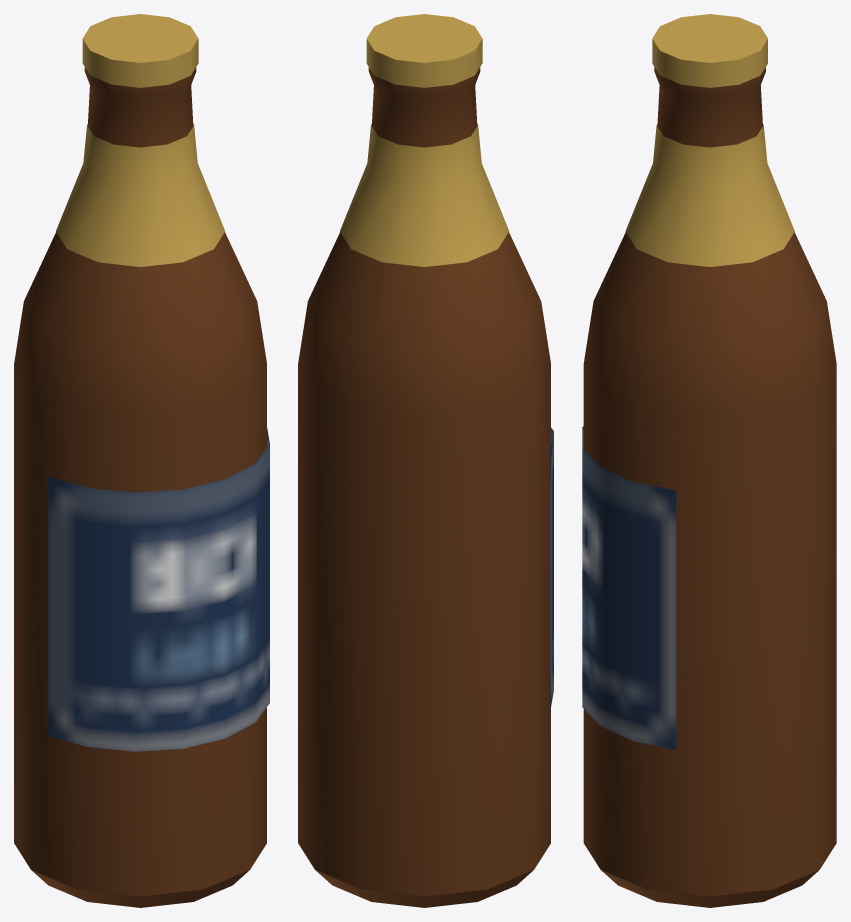
The model's file is SC_Prod_Beer_Bottle.gltf.
3 renders of one model, left to right at view 1: azimuth 30°, elevation 25°; view 2: azimuth 150°, elevation 25°; view 3: azimuth 270°, elevation 25°, orthographic.
Parts seen in each view (by area): view 1: SC_Prod_Beer_Bottle; view 2: SC_Prod_Beer_Bottle; view 3: SC_Prod_Beer_Bottle.
Part boxes in pixels (x1,y1,x2,y2): SC_Prod_Beer_Bottle: (14,14,269,907); SC_Prod_Beer_Bottle: (298,14,553,907); SC_Prod_Beer_Bottle: (582,14,836,907).
Bounding box in the file's own units: 0.069 × 0.248 × 0.0694.
2 materials, 2 textured.
